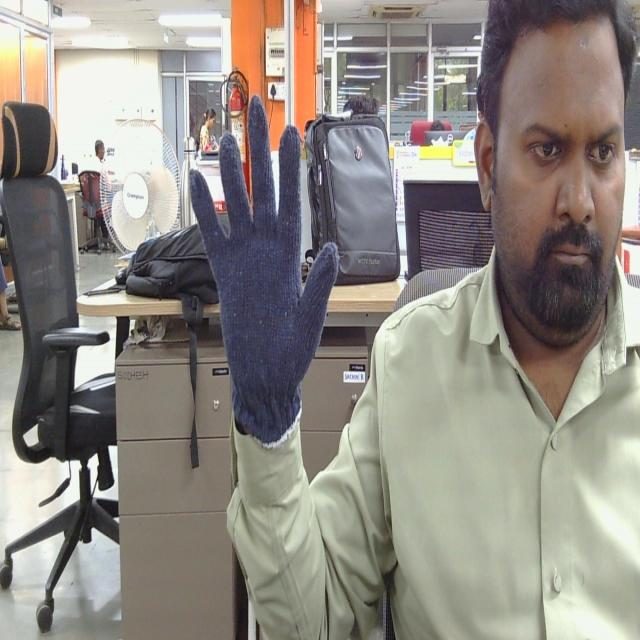Gloves-Detection: (194, 111, 348, 453)
